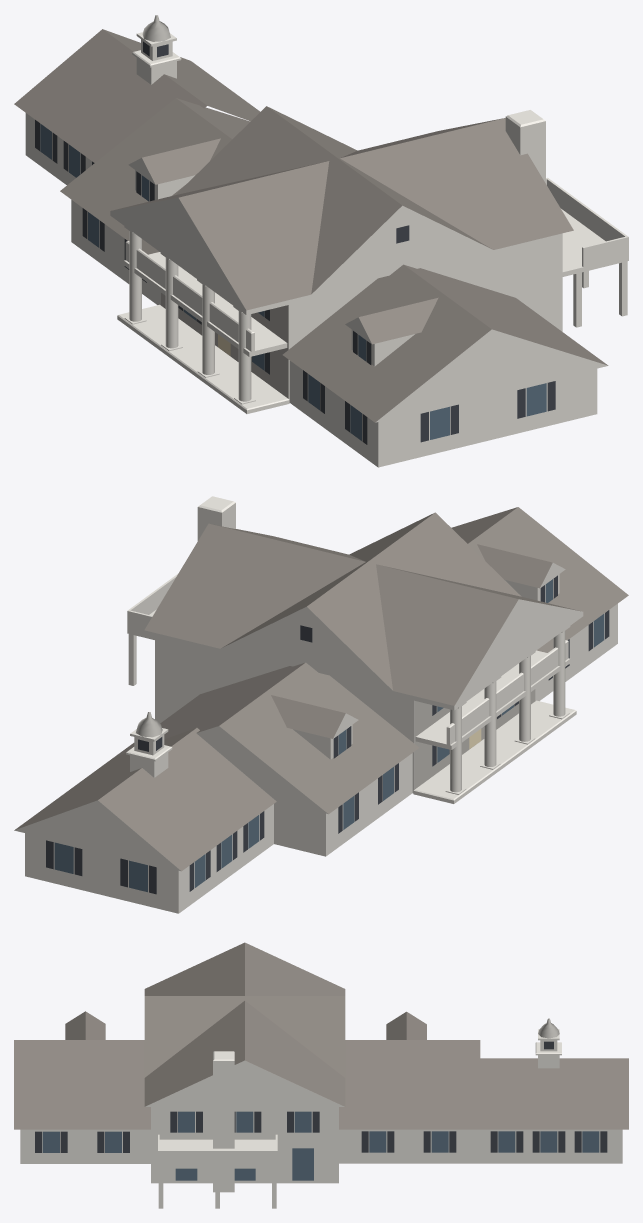
File: dal-southfork-ranch.glb
3 views of the same model, one above another, from view 1: azimuth 30°, elevation 25°; view 2: azimuth 150°, elevation 25°; view 3: azimuth 270°, elevation 25° (orthographic). The views are drawn at different scales.
Parts seen in each view (by area): view 1: Southfork Ranch; view 2: Southfork Ranch; view 3: Southfork Ranch.
Part boxes in pixels (x1=…): Southfork Ranch: x1=14, y1=15, x2=628, y2=467; Southfork Ranch: x1=14, y1=496, x2=628, y2=913; Southfork Ranch: x1=14, y1=942, x2=628, y2=1208.
Bounding box in the file's own units: 21.45 × 9.4 × 39.55.
